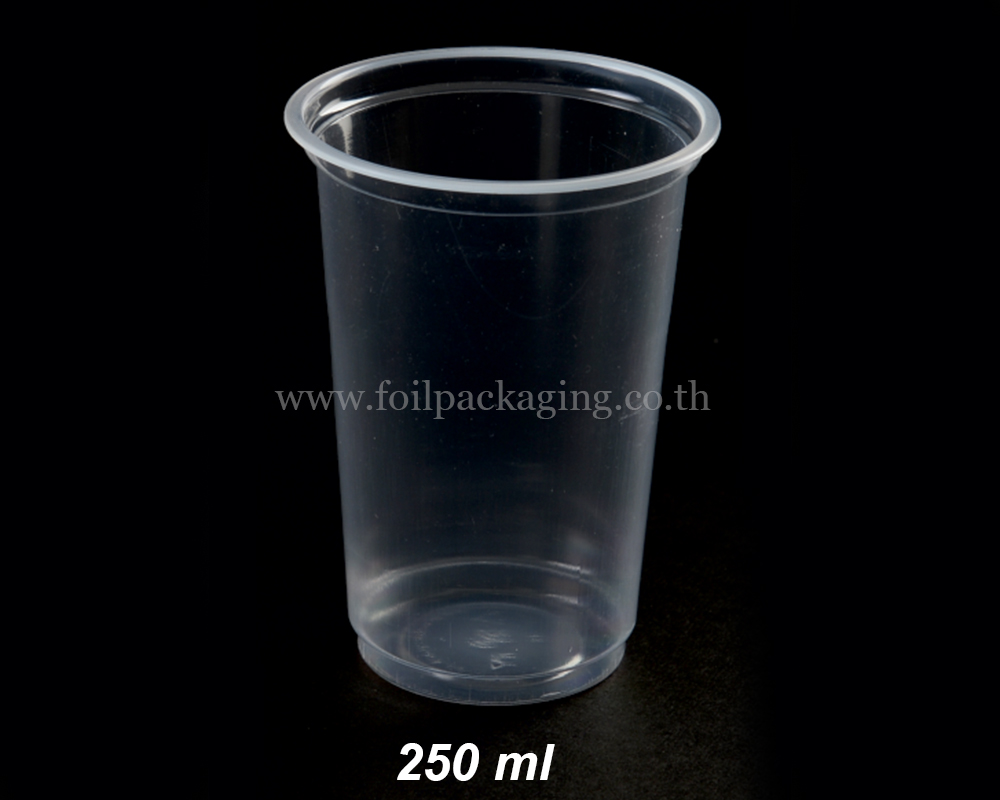plastic_glass: (226, 22, 912, 752)
